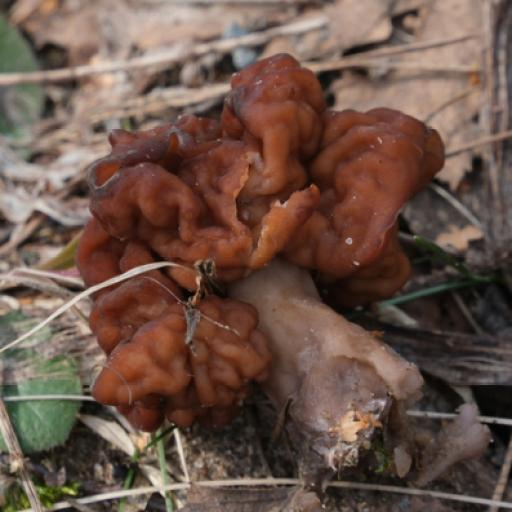mushroom: (76, 54, 444, 493)
